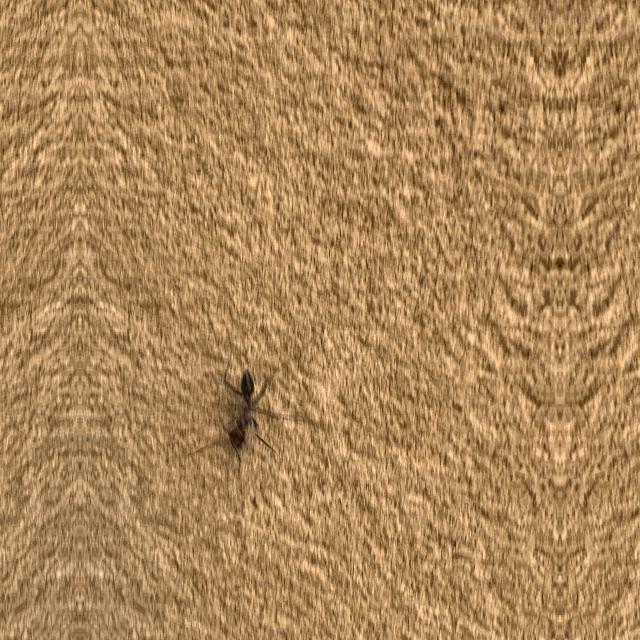Cataglyphis: (218, 363, 270, 459)
